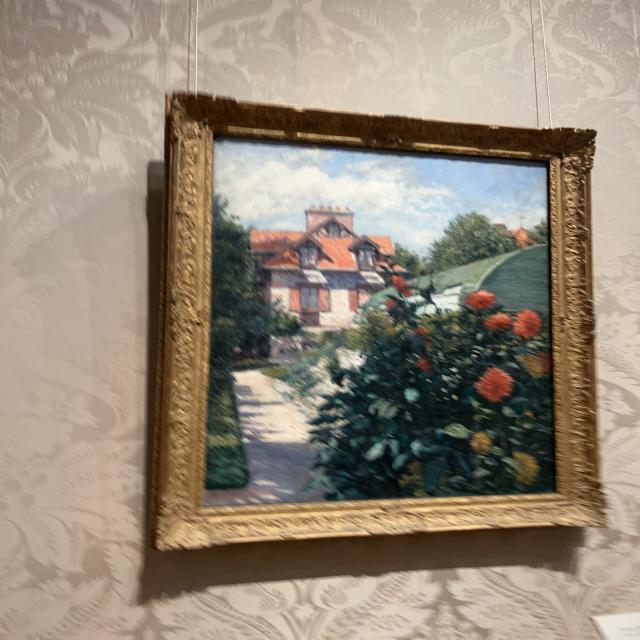summer: (210, 144, 552, 502)
